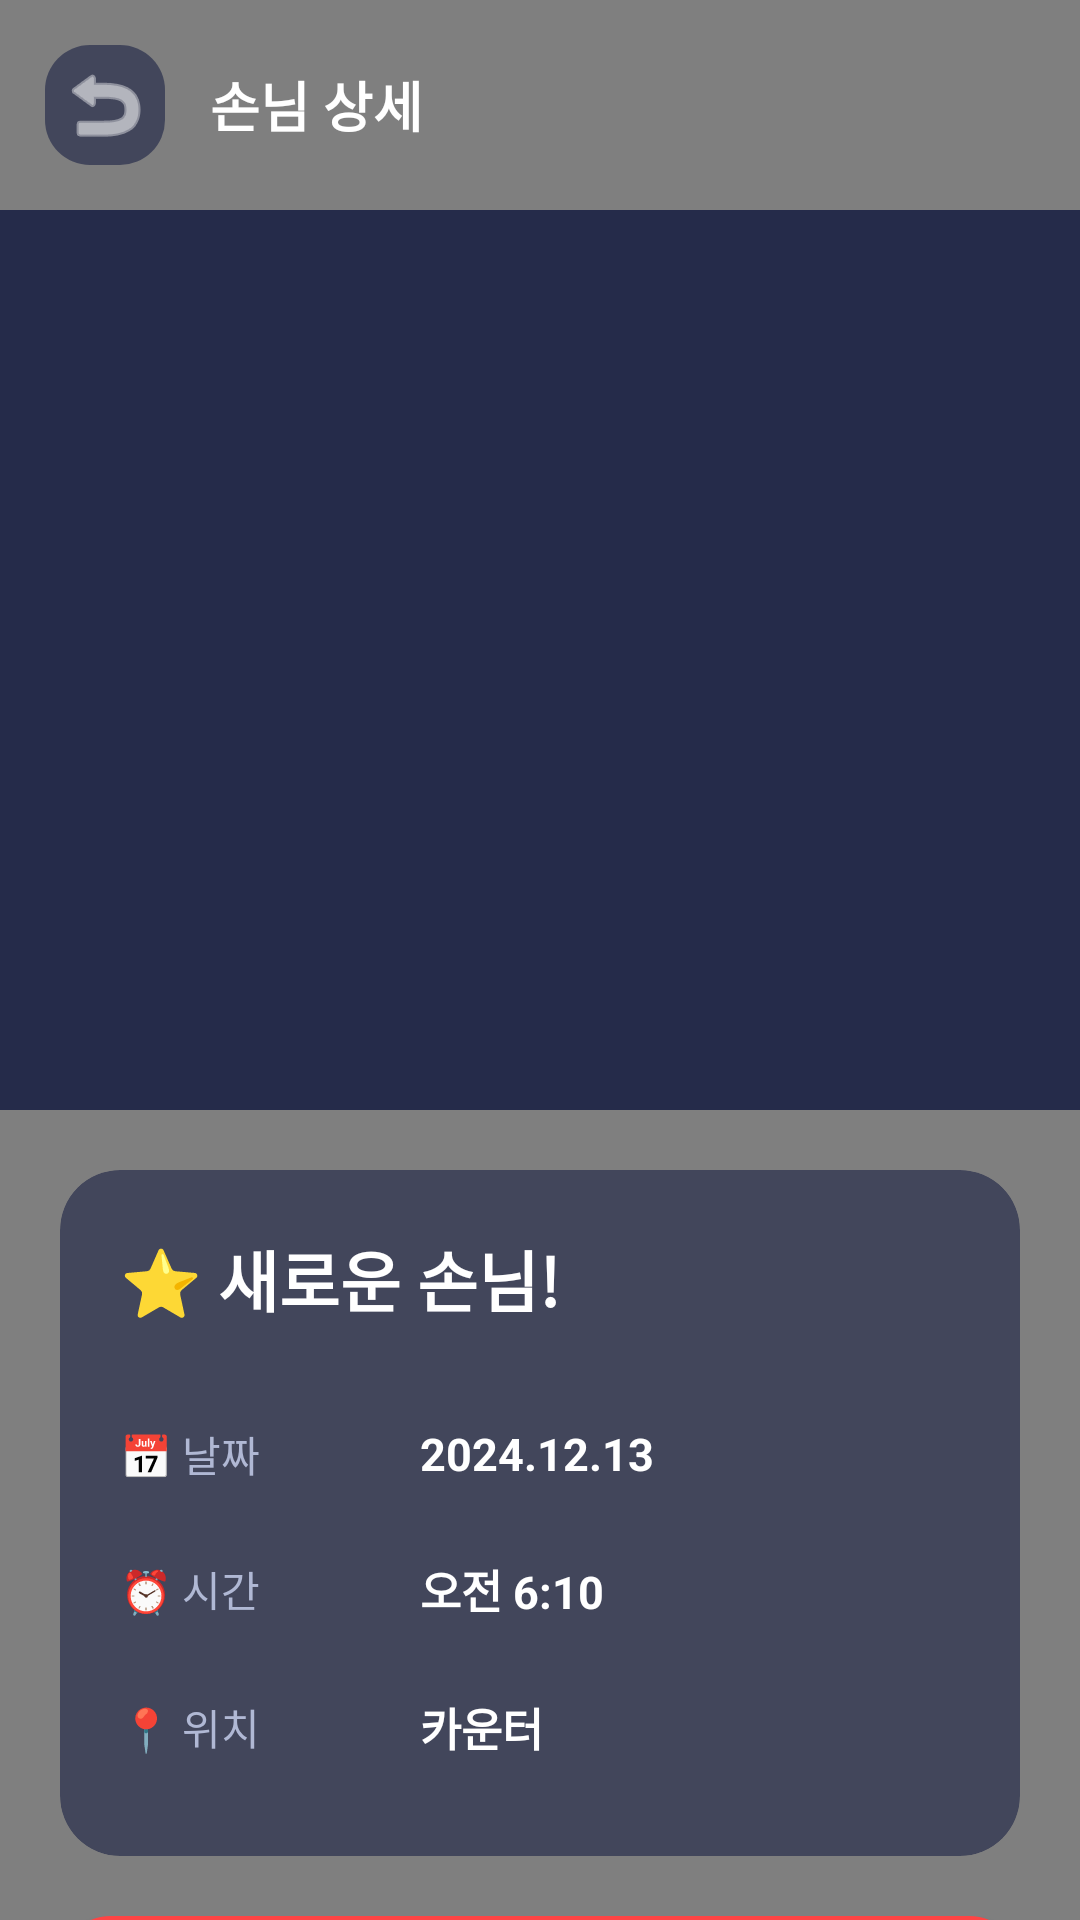

Named icons in this screenshot (1080*1920) and their bounding boxes, box(x1, y1, x2, y2):
뒤로가기: box(45, 45, 165, 165)
